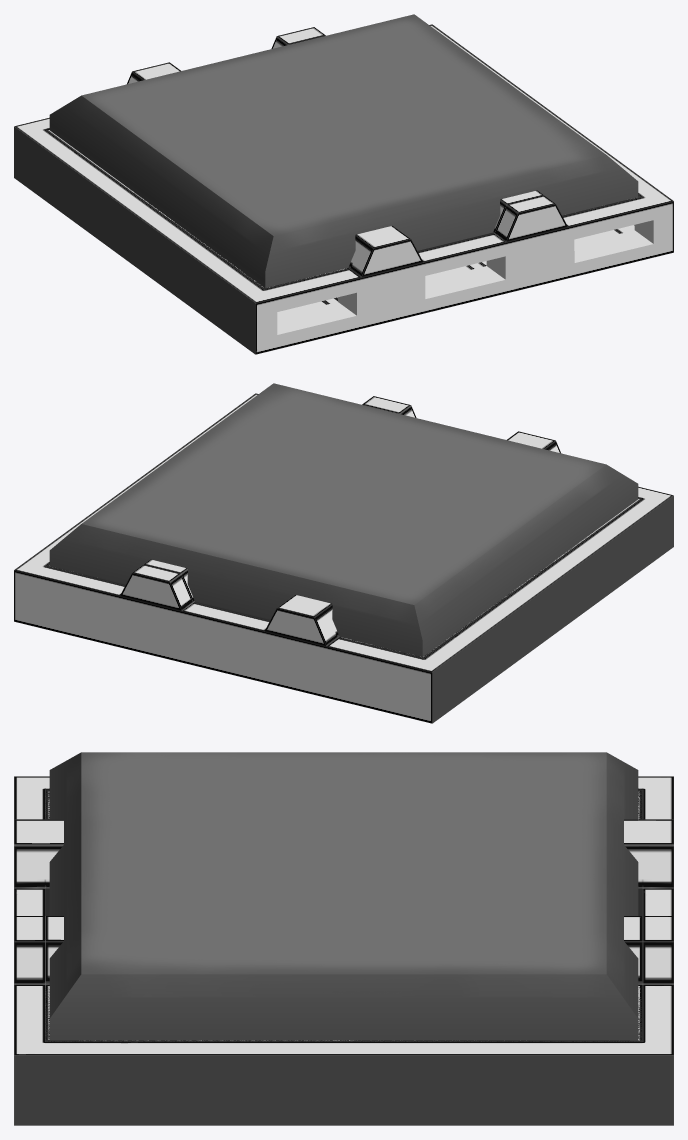
File: Pressure_plate.fbx
3 views of the same model, one above another, from view 1: azimuth 30°, elevation 25°; view 2: azimuth 150°, elevation 25°; view 3: azimuth 270°, elevation 25° (orthographic). The views are drawn at different scales.
Visible parts, largest first — view 1: pCube2, pCube3; view 2: pCube2, pCube3; view 3: pCube2, pCube3.
Boxes of the visible parts, x1,y1,x2,y2 form: pCube2: (49, 14, 638, 287); pCube3: (14, 24, 673, 354); pCube2: (49, 383, 638, 656); pCube3: (14, 393, 673, 723); pCube2: (49, 752, 638, 1040); pCube3: (14, 776, 673, 1125).
Bounding box in the file's own units: 78.52 × 16.15 × 78.52.
